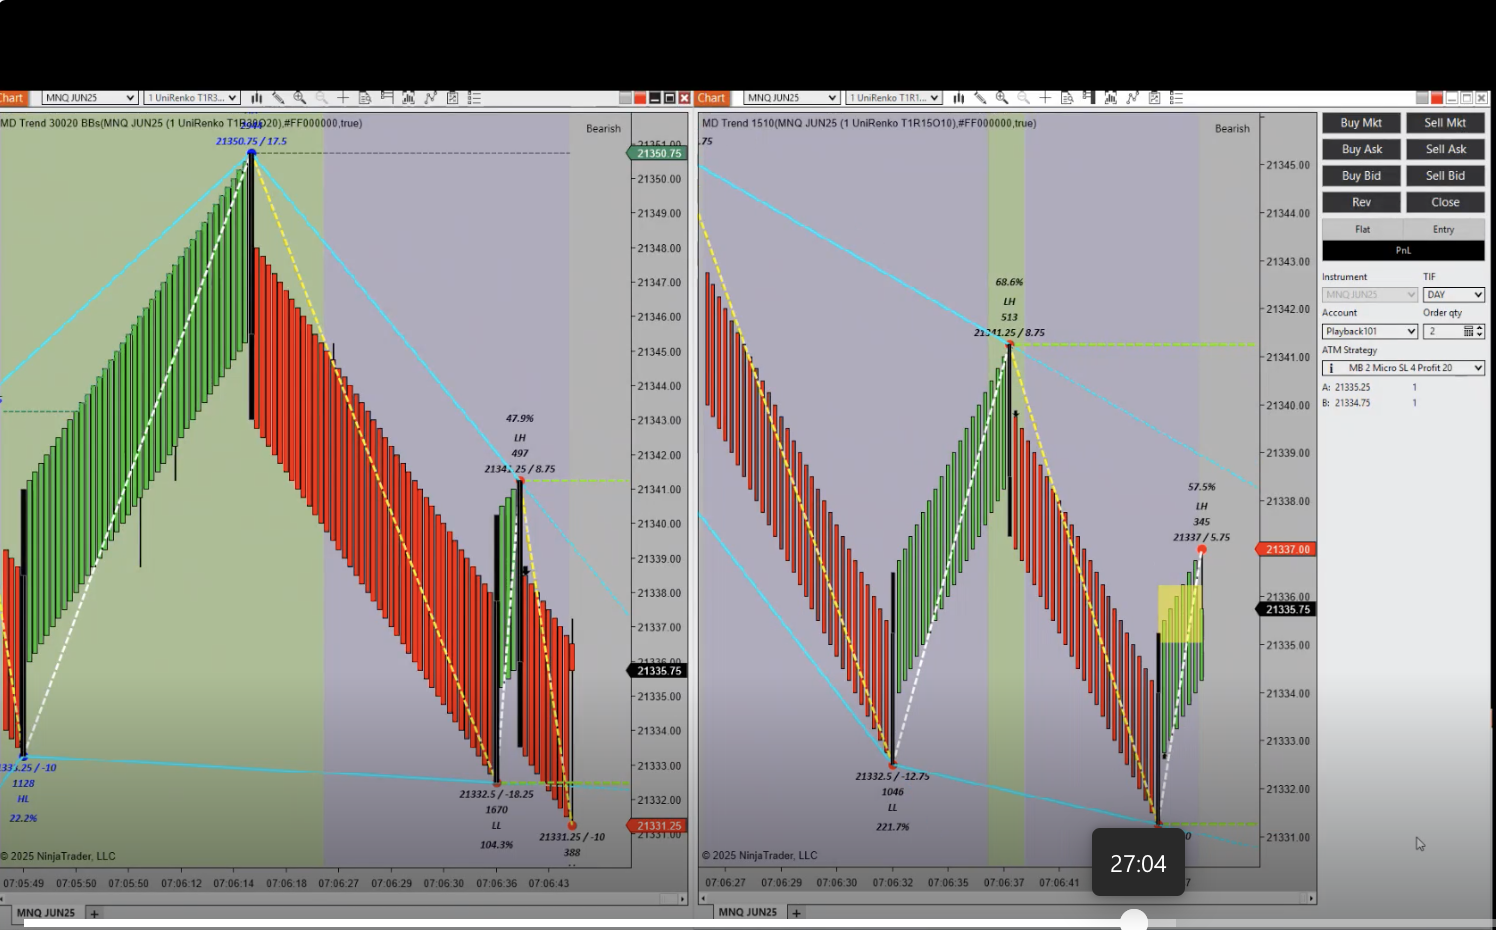candle: (1153, 635, 1168, 825), (493, 517, 502, 787), (1004, 346, 1017, 542), (888, 575, 900, 765), (250, 152, 256, 427), (20, 492, 27, 761), (519, 479, 525, 751)
